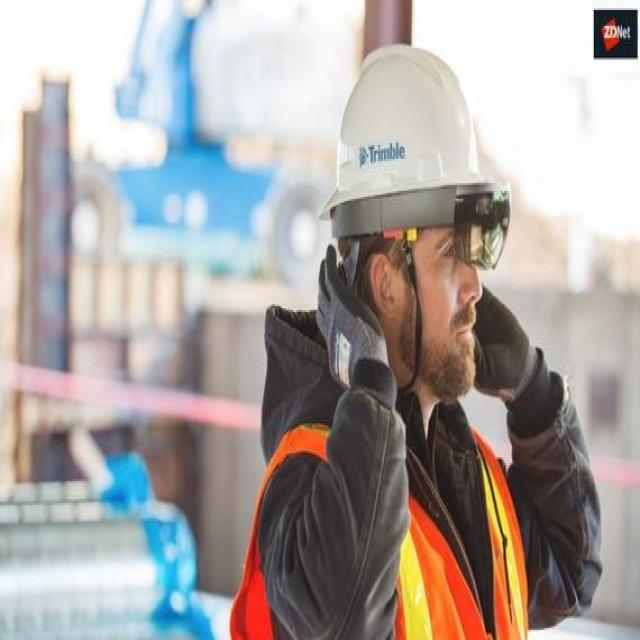helmet: (318, 58, 483, 530)
vest: (256, 541, 550, 640)
